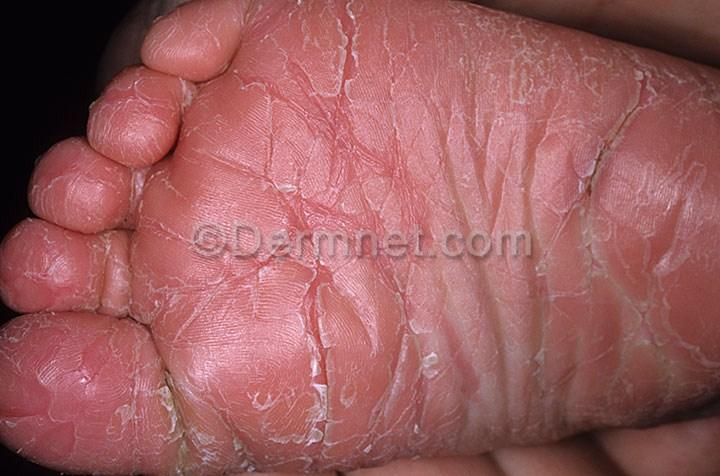Eczema: (292, 91, 440, 178), (552, 294, 662, 408), (304, 0, 436, 85), (139, 218, 264, 303), (432, 201, 522, 313), (443, 97, 529, 203), (462, 321, 552, 415), (71, 389, 194, 457), (394, 309, 466, 424), (529, 211, 635, 289), (260, 212, 367, 288), (164, 305, 280, 374), (9, 419, 159, 472), (277, 300, 387, 371), (520, 108, 593, 206), (209, 12, 314, 79), (28, 237, 136, 302), (58, 323, 160, 390), (595, 112, 663, 212), (377, 178, 432, 300), (159, 163, 269, 223), (634, 221, 686, 347), (589, 39, 676, 111), (57, 159, 155, 222), (436, 5, 506, 92), (514, 22, 587, 105), (285, 375, 379, 436), (271, 156, 374, 207), (0, 332, 64, 414), (667, 114, 701, 263), (206, 97, 286, 158), (189, 383, 278, 433), (693, 112, 719, 277), (131, 74, 204, 128), (256, 427, 336, 472), (99, 123, 171, 171), (171, 437, 268, 471), (355, 428, 473, 454), (676, 274, 713, 355), (670, 58, 715, 113), (670, 353, 720, 401), (172, 30, 214, 67)
